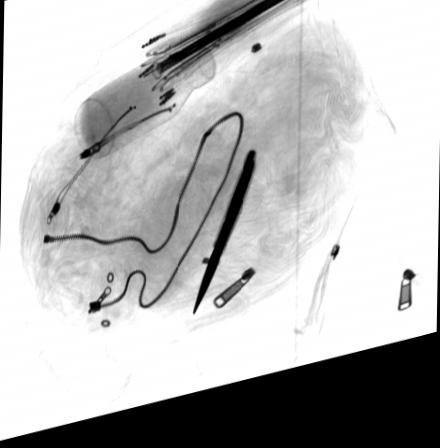Pliers: (191, 159, 260, 325)
